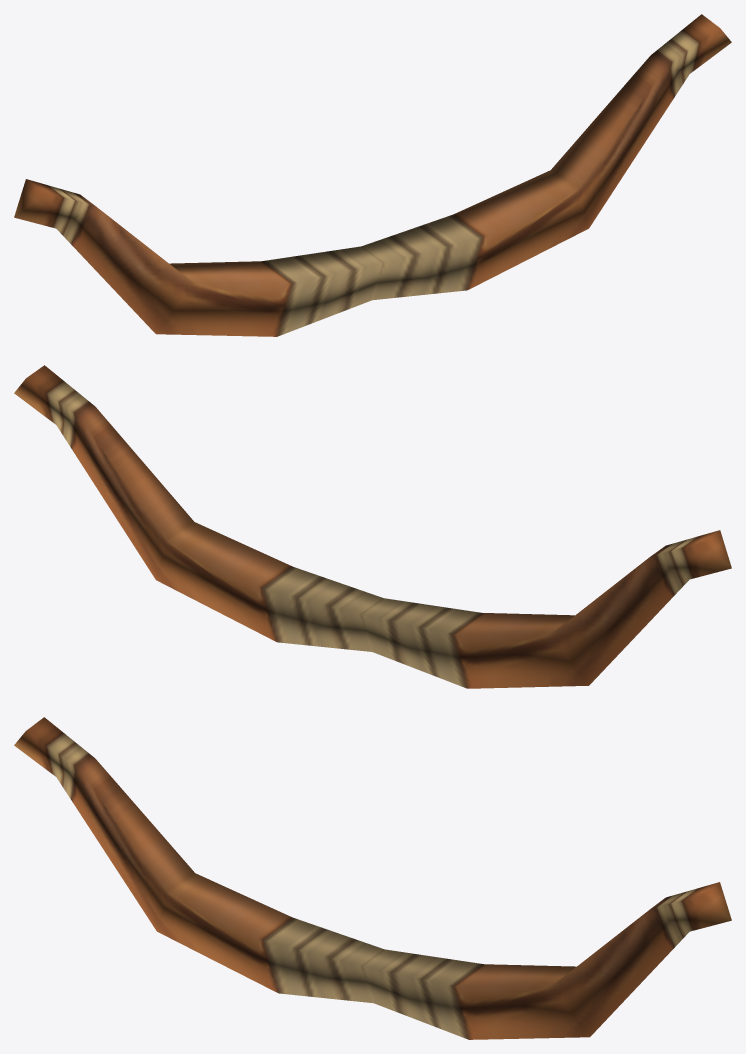
File: DWF_Weapon_bow.FBX
3 renders of one model, top to bottom at view 1: azimuth 30°, elevation 25°; view 2: azimuth 150°, elevation 25°; view 3: azimuth 330°, elevation 25°, orthographic.
Parts seen in each view (by area): view 1: DWF_Weapon_bow; view 2: DWF_Weapon_bow; view 3: DWF_Weapon_bow.
Boxes of the visible parts, left/top/right/bottom form: DWF_Weapon_bow: left=14, top=14, right=731, bottom=336; DWF_Weapon_bow: left=14, top=365, right=731, bottom=688; DWF_Weapon_bow: left=14, top=717, right=731, bottom=1039.
Bounding box in the file's own units: 49.34 × 13.85 × 3.6.
1 material, 1 textured.
